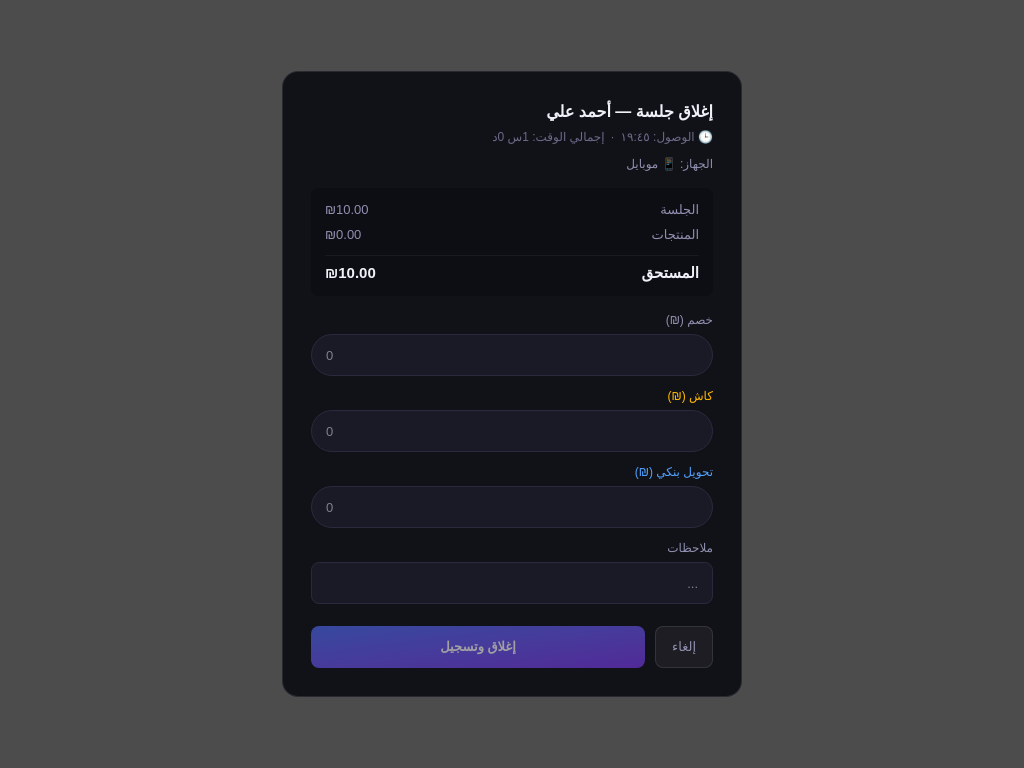
Test: CheckoutModal Component Bank Validation › auto-selects the bank account if only one active bank account exists
Type "40" into the number field with placeholder "0" below "تحويل بنكي (₪)". click: (512, 507)
box: [311,486,713,528]
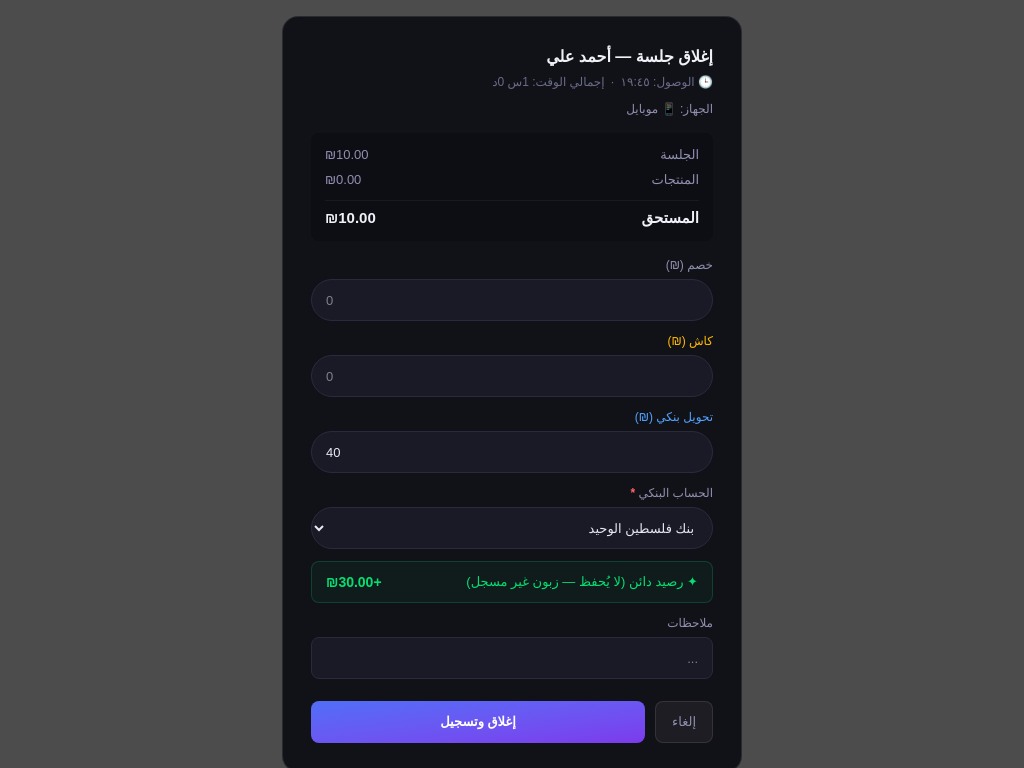
expect the dropdown shows "بنك فلسطين الوحيد": met, box [311,507,713,549]
